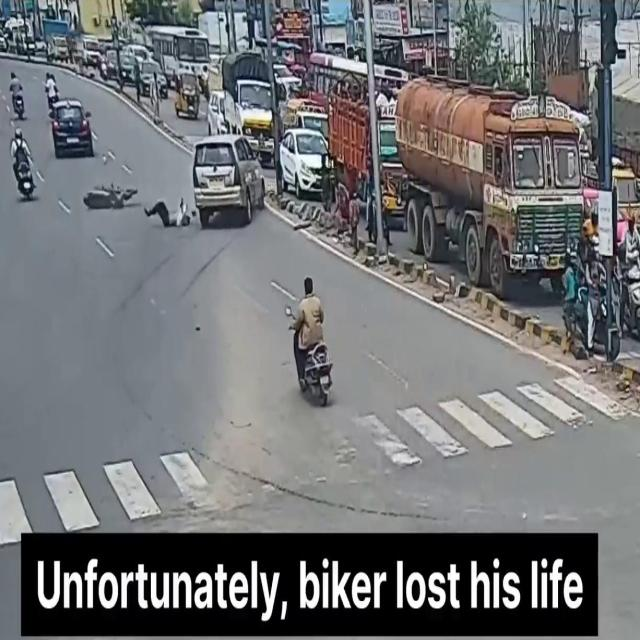accident: (152, 128, 271, 238), (78, 159, 142, 212)
non_accident: (390, 70, 640, 360), (278, 45, 390, 243), (0, 0, 191, 105), (190, 38, 274, 170)
